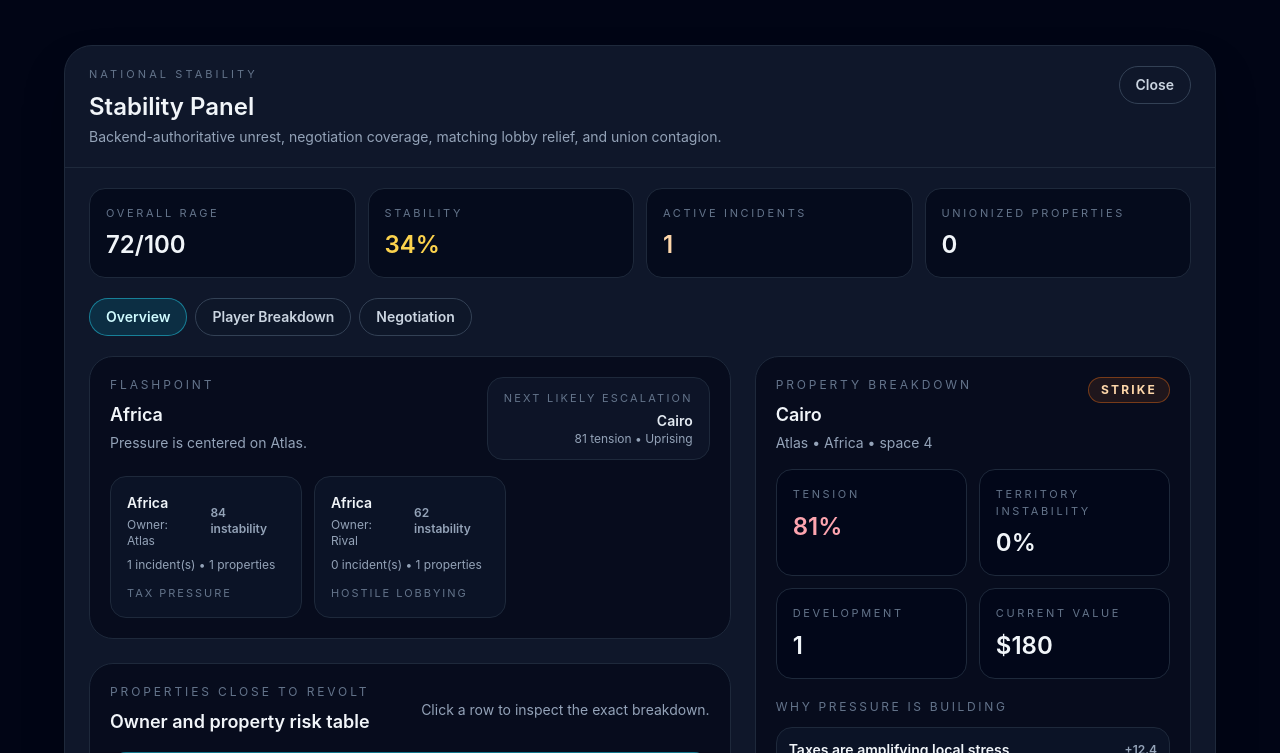
it: StabilityPanelModal › shows Minarchist emergency reform controls when applicable
The image size is (1280, 753).
Click the button "Negotiation".
click(416, 317)  # box [359,298,472,336]
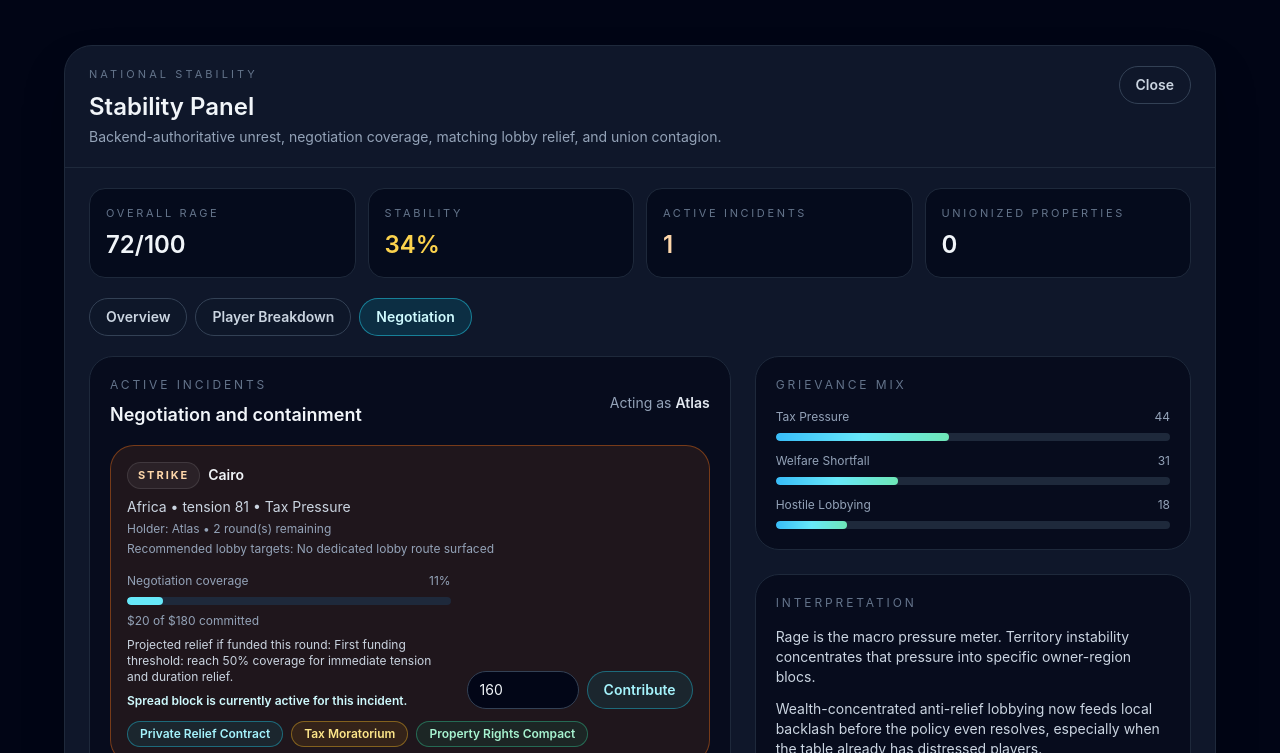
Expected: the button "Private Relief Contract" is shown, [127,720,283,746]
Expected: the button "Tax Moratorium" is shown, [291,720,408,746]
Expected: the button "Property Rights Compact" is shown, [416,720,588,746]
